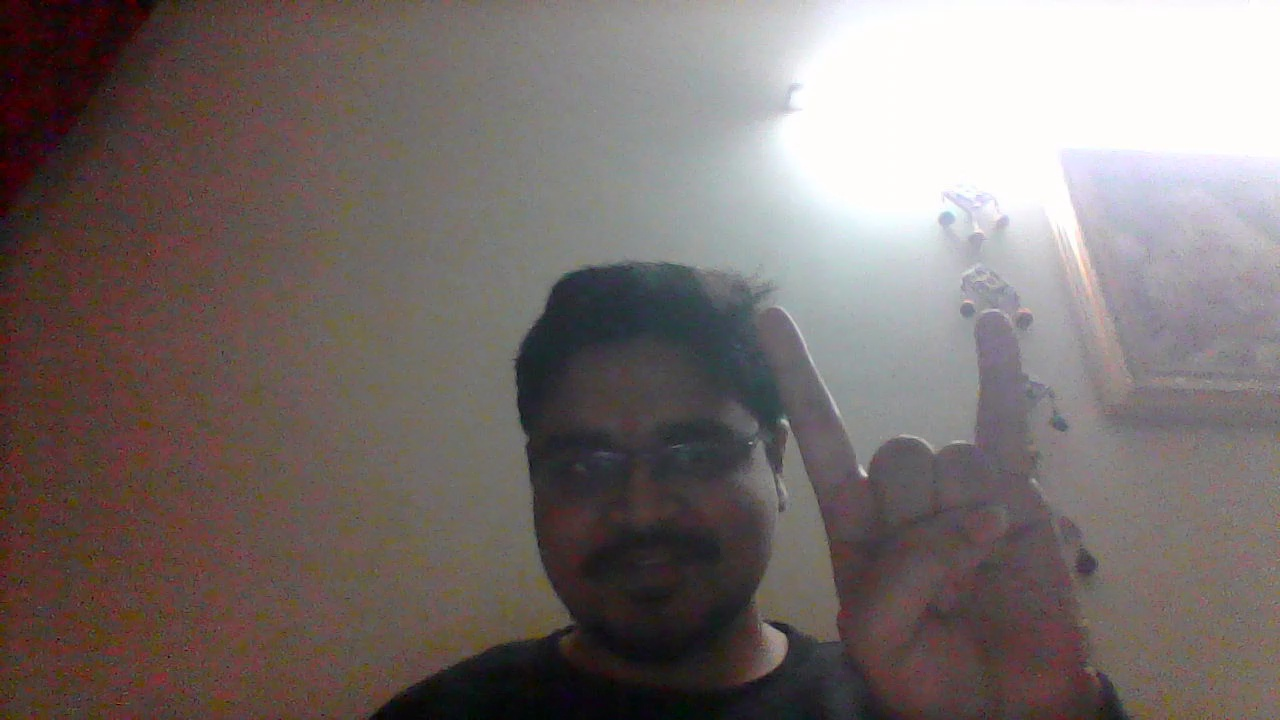ILoveYou: (753, 307, 1073, 697)
